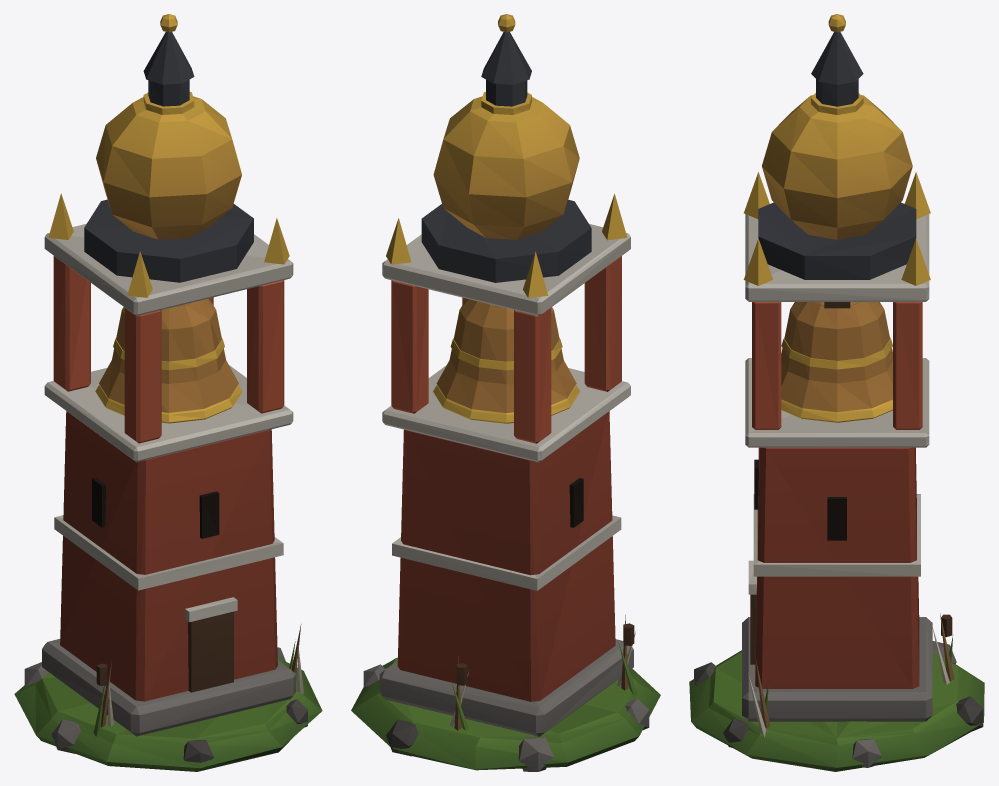
File: great_toll.glb
The picture shows the model from 3 angles, left to right: view 1: azimuth 30°, elevation 25°; view 2: azimuth 150°, elevation 25°; view 3: azimuth 270°, elevation 25°; orthographic projection.
Parts seen in each view (by area): view 1: great_toll; view 2: great_toll; view 3: great_toll.
Part boxes in pixels (left/top/right/bottom): great_toll: left=14, top=14, right=322, bottom=771; great_toll: left=351, top=14, right=660, bottom=771; great_toll: left=689, top=14, right=984, bottom=771.
Bounding box in the file's own units: 0.9387 × 2.35 × 0.899.
